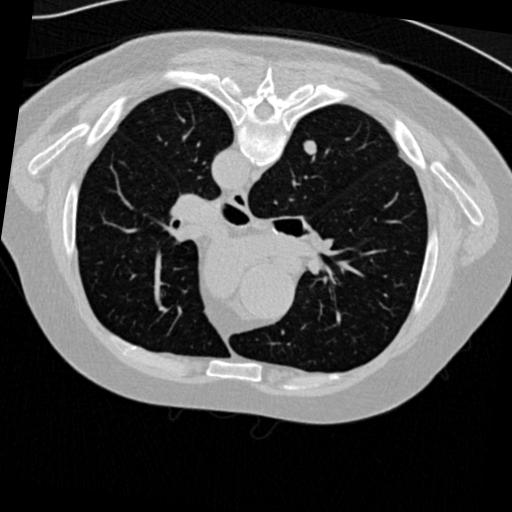nodule: (301, 138, 322, 159)
